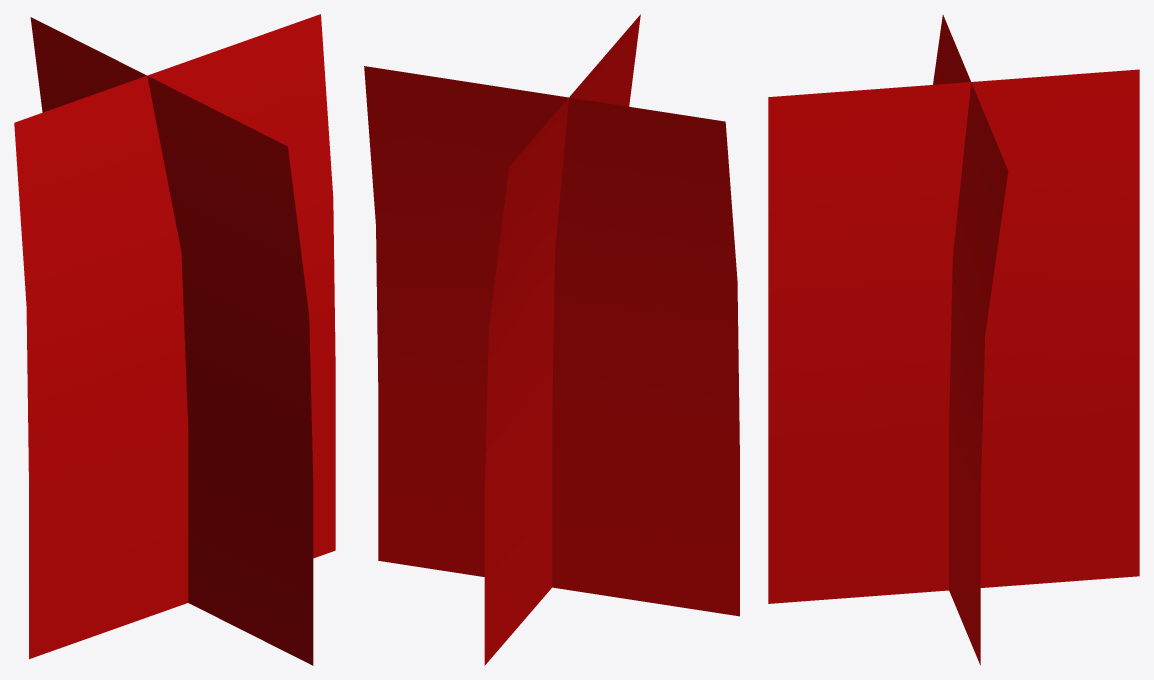
The model's file is Attic_Plant_01_LP.glb.
The picture shows the model from 3 angles, left to right: view 1: azimuth 30°, elevation 25°; view 2: azimuth 150°, elevation 25°; view 3: azimuth 270°, elevation 25°; orthographic projection. The views are drawn at different scales.
Visible parts, largest first — view 1: Attic_Plant_01_LP; view 2: Attic_Plant_01_LP; view 3: Attic_Plant_01_LP.
Part boxes in pixels (box(x1,y1,x2,y2)): Attic_Plant_01_LP: box(14, 14, 335, 665); Attic_Plant_01_LP: box(364, 14, 739, 665); Attic_Plant_01_LP: box(768, 15, 1139, 665).
Size of the model in its own units: 0.1714 by 0.2521 by 0.1714.
